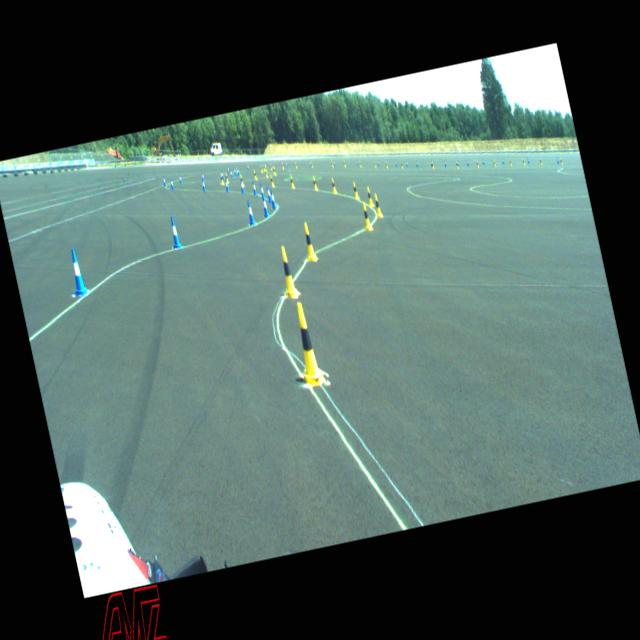blue_cone: (66, 247, 88, 294), (168, 216, 181, 247), (245, 199, 255, 224), (260, 193, 270, 216), (268, 188, 276, 208), (266, 184, 272, 202), (259, 182, 265, 198), (200, 178, 206, 191), (224, 178, 229, 190), (252, 180, 256, 194), (240, 178, 244, 192), (169, 178, 174, 188), (178, 174, 182, 184), (162, 176, 166, 186), (220, 170, 224, 178), (201, 172, 204, 181), (466, 158, 469, 166), (233, 166, 236, 174), (415, 160, 418, 167), (227, 166, 230, 173), (501, 157, 504, 163), (376, 160, 379, 166), (230, 169, 232, 177), (356, 158, 358, 166), (286, 160, 288, 168), (237, 167, 239, 174), (406, 160, 408, 167), (246, 163, 248, 170), (556, 156, 558, 163), (395, 160, 397, 167), (444, 159, 446, 166), (482, 158, 484, 165), (457, 160, 459, 167), (526, 157, 528, 163), (333, 160, 335, 166), (430, 160, 432, 166), (308, 160, 310, 166), (264, 163, 266, 168)
yellow_cone: (286, 300, 326, 386), (276, 246, 298, 296), (300, 222, 316, 260), (360, 202, 371, 228), (372, 192, 382, 215), (365, 186, 373, 206), (352, 181, 358, 198), (330, 177, 336, 193), (312, 176, 318, 189), (289, 175, 294, 188), (240, 173, 244, 186), (270, 174, 274, 186), (225, 172, 229, 183), (253, 170, 257, 180), (220, 173, 223, 184), (384, 160, 388, 168), (264, 169, 268, 177), (342, 160, 346, 167), (538, 157, 542, 164), (492, 160, 496, 167), (509, 158, 512, 166), (455, 160, 458, 168), (373, 160, 376, 167), (273, 167, 276, 174), (281, 162, 284, 169), (269, 163, 272, 170), (330, 160, 333, 167), (359, 160, 362, 167), (294, 161, 297, 168), (431, 162, 434, 168), (310, 161, 313, 167), (260, 164, 262, 172), (476, 160, 478, 167), (400, 161, 402, 168), (560, 158, 562, 165), (522, 158, 524, 165), (262, 163, 264, 170), (265, 165, 267, 172), (272, 166, 274, 173)
